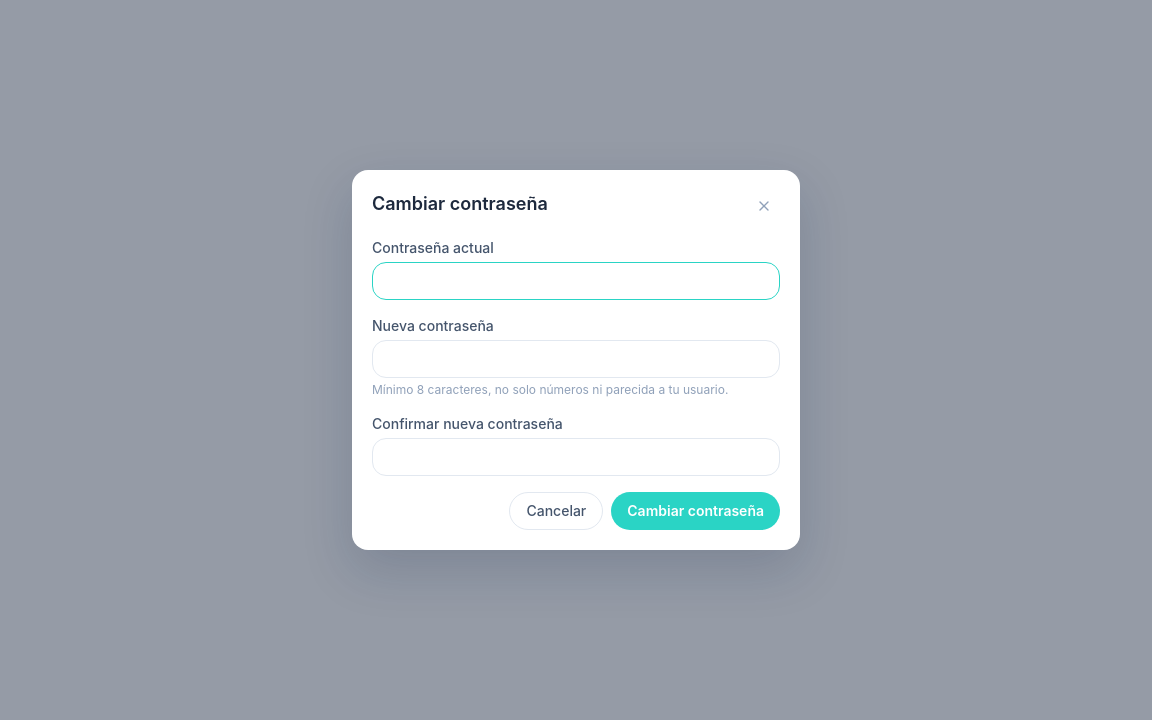
ChangePasswordModal › no envía si la confirmación no coincide
The width and height of the screenshot is (1152, 720).
Type "Actual2026!" into the password field labelled "Contraseña actual" at coordinates (576, 281), box [372,262,780,300]
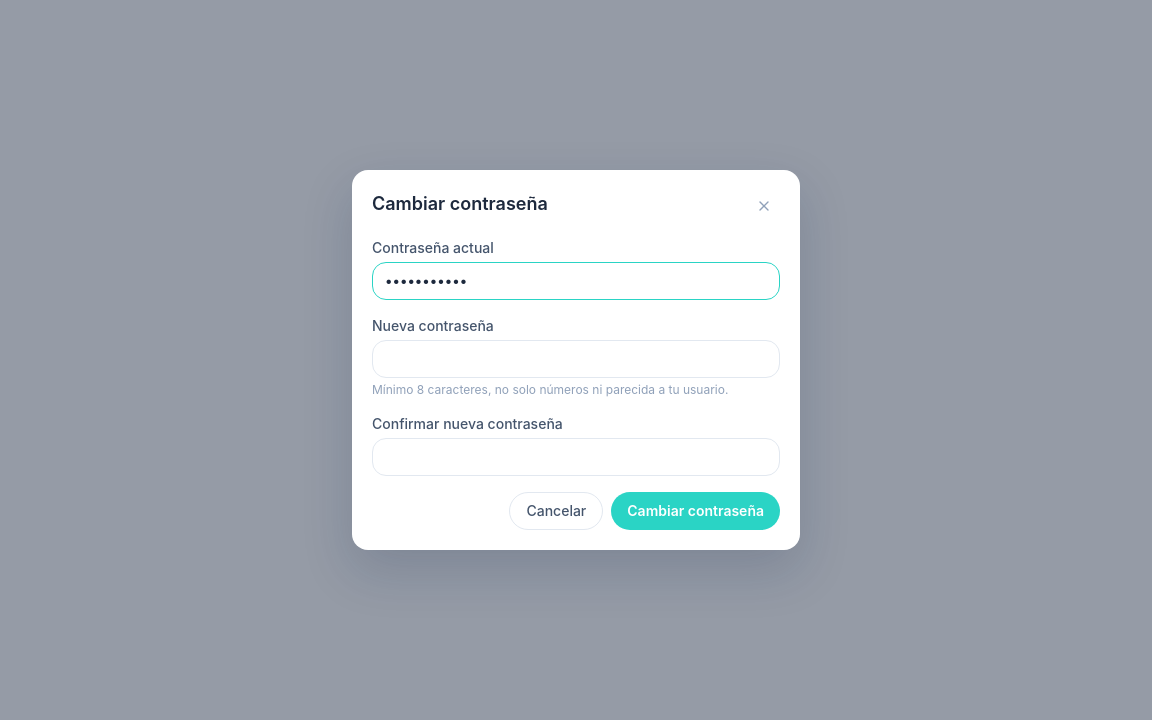
Type "NuevaClave2026!" into the password field labelled "Nueva contraseña" at coordinates (576, 359), box [372,340,780,378]
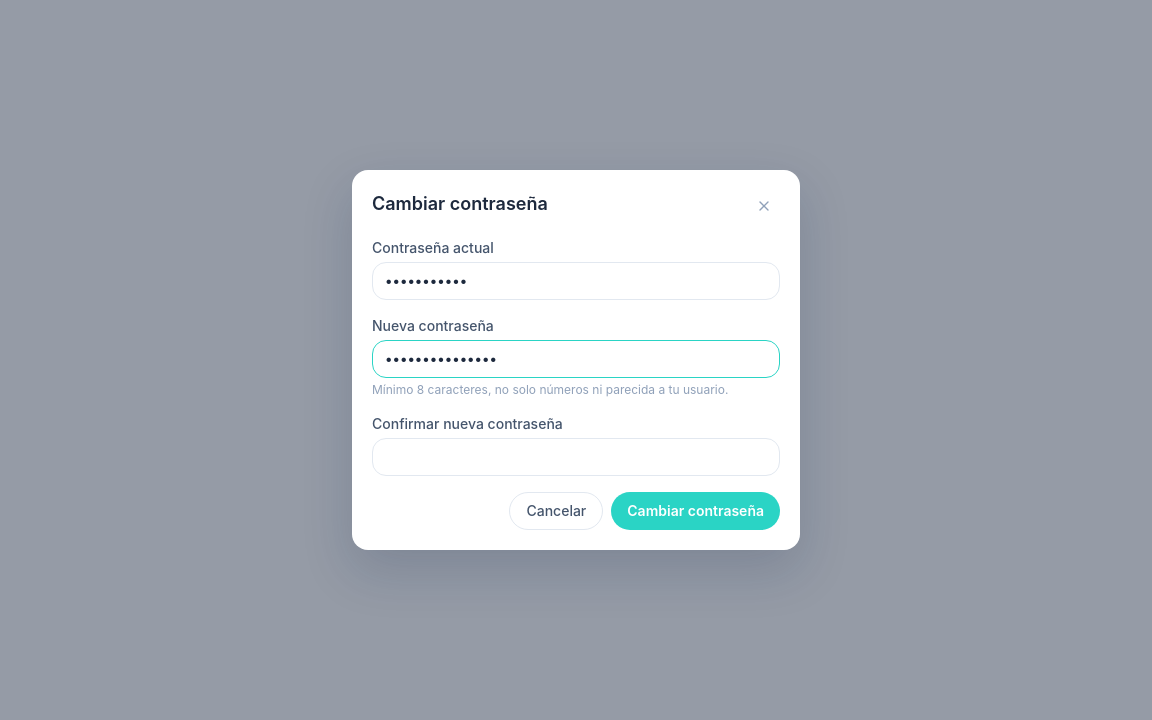
Type "OtraCosa2026!" into the password field labelled "Confirmar nueva contraseña" at coordinates (576, 457), box [372,438,780,476]
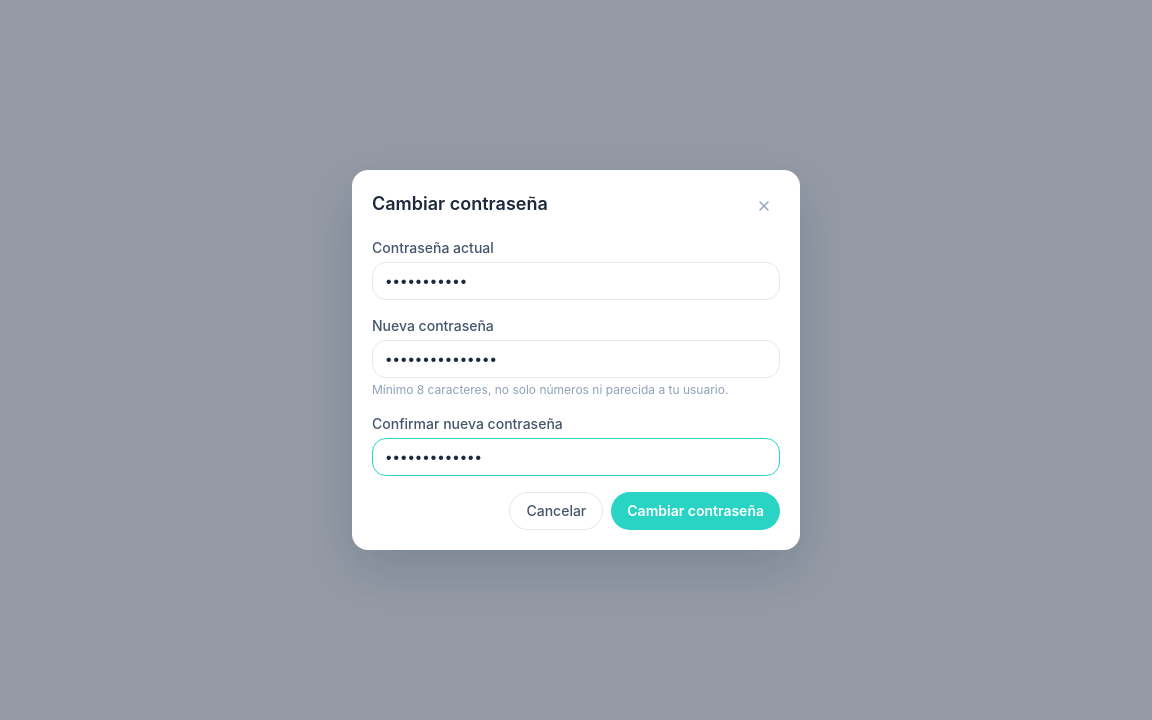
Click the button "Cambiar contraseña" at coordinates (696, 511), box [611,492,780,530]
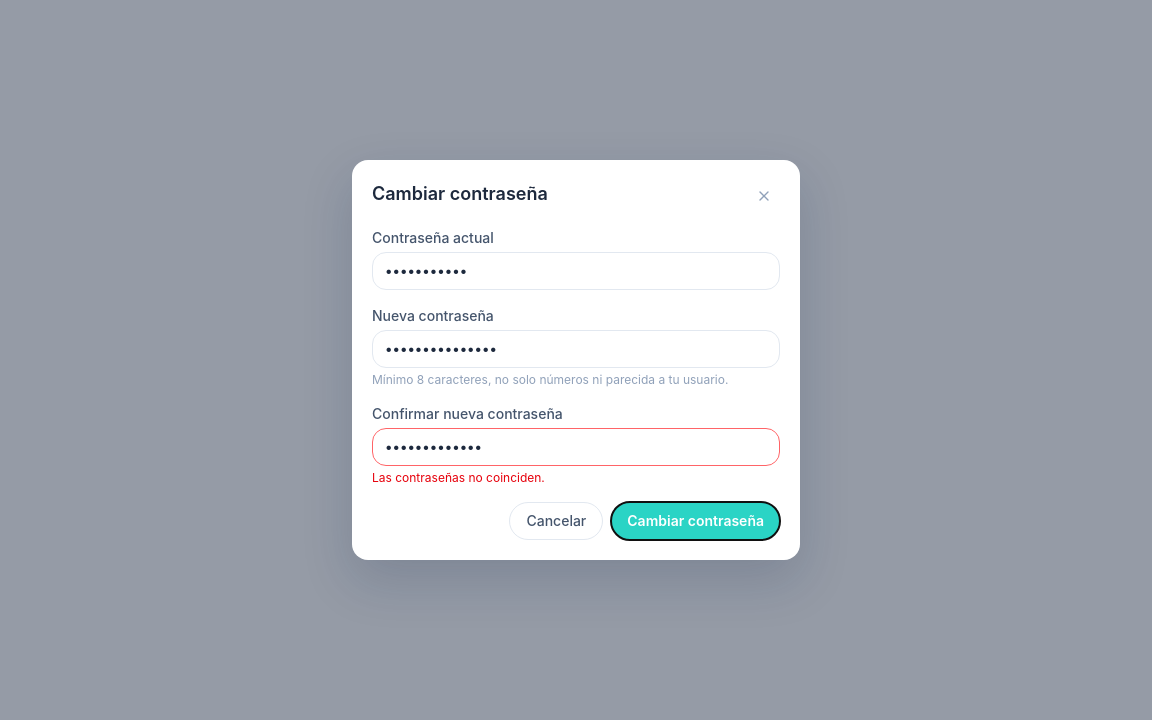
expect the text "Las contraseñas no coinciden." is shown: met, box [372,470,545,485]
